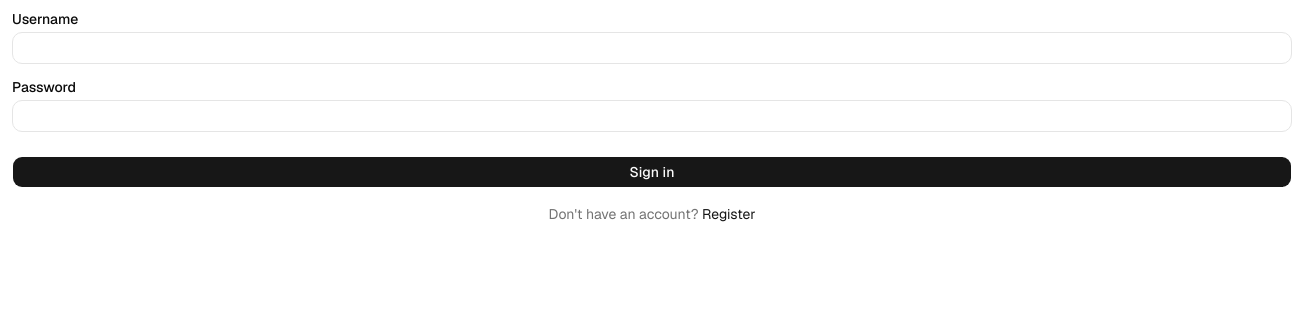
Test: LoginForm › login failure › renders 422 validation detail from server as-is
The image size is (1304, 315).
In the field labelled "Username": (652, 48) [12,32,1292,64], type "testuser"
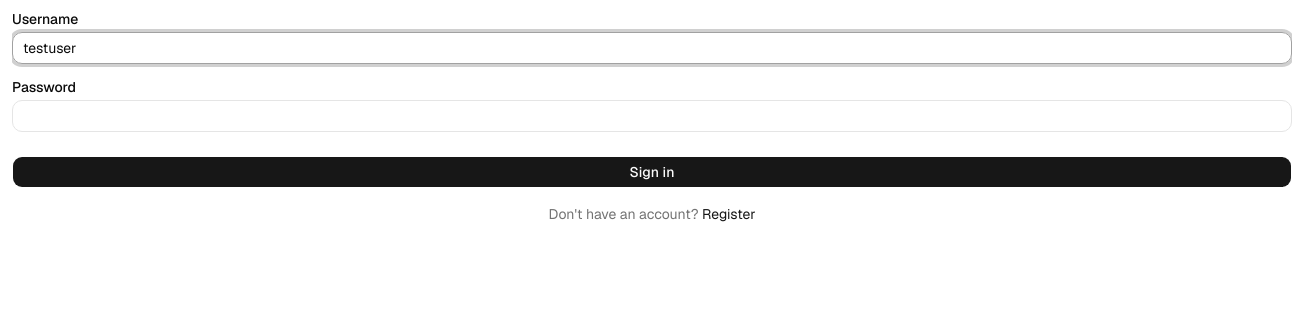
In the password field labelled "Password": (652, 116) [12,100,1292,132], type "pass"
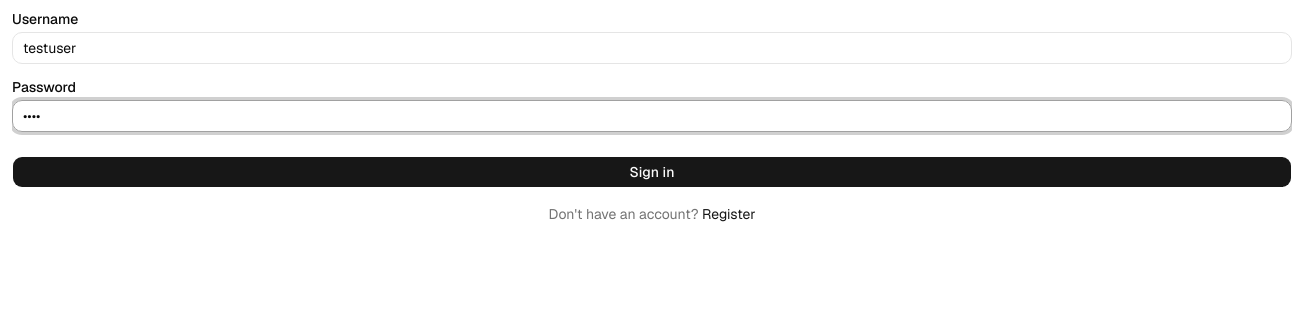
Click the button "Sign in": (652, 172) [12,156,1292,188]
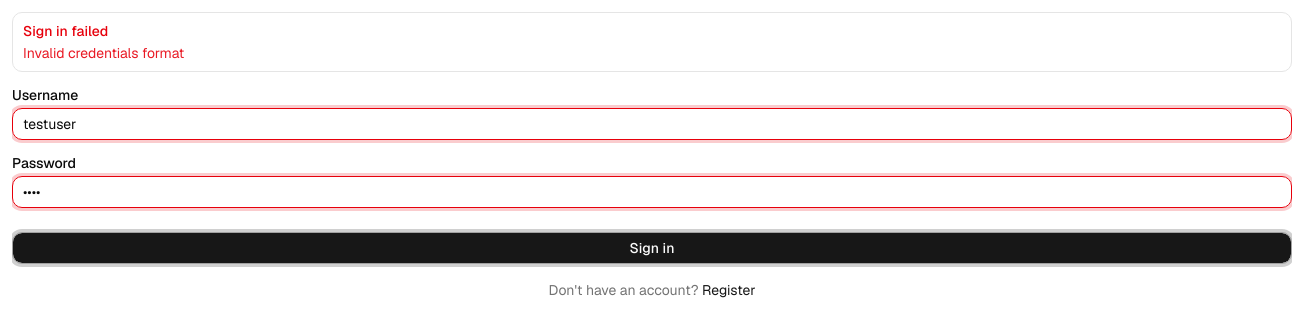
Check: the text "Invalid credentials format" is shown, box [23,44,184,62]
